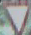Give way: (2, 1, 30, 33)
